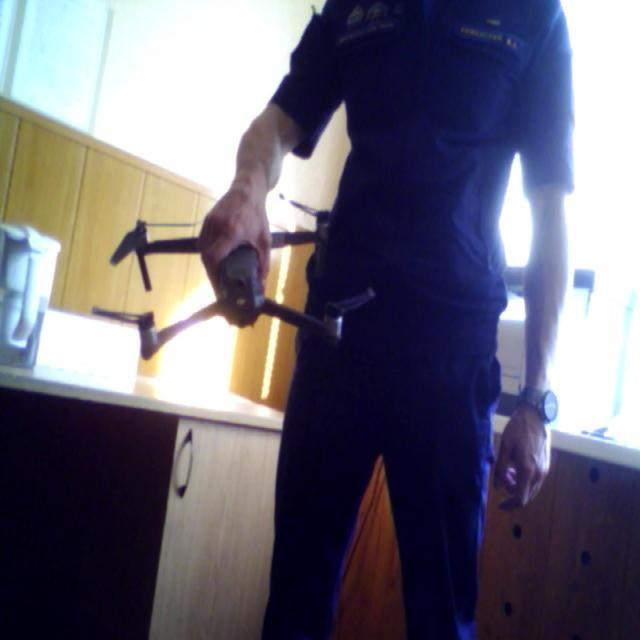drone: (89, 192, 393, 374)
